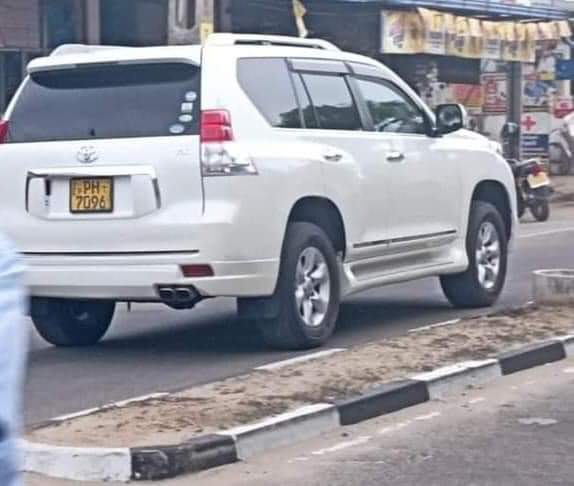number_plate: (70, 179, 113, 212)
